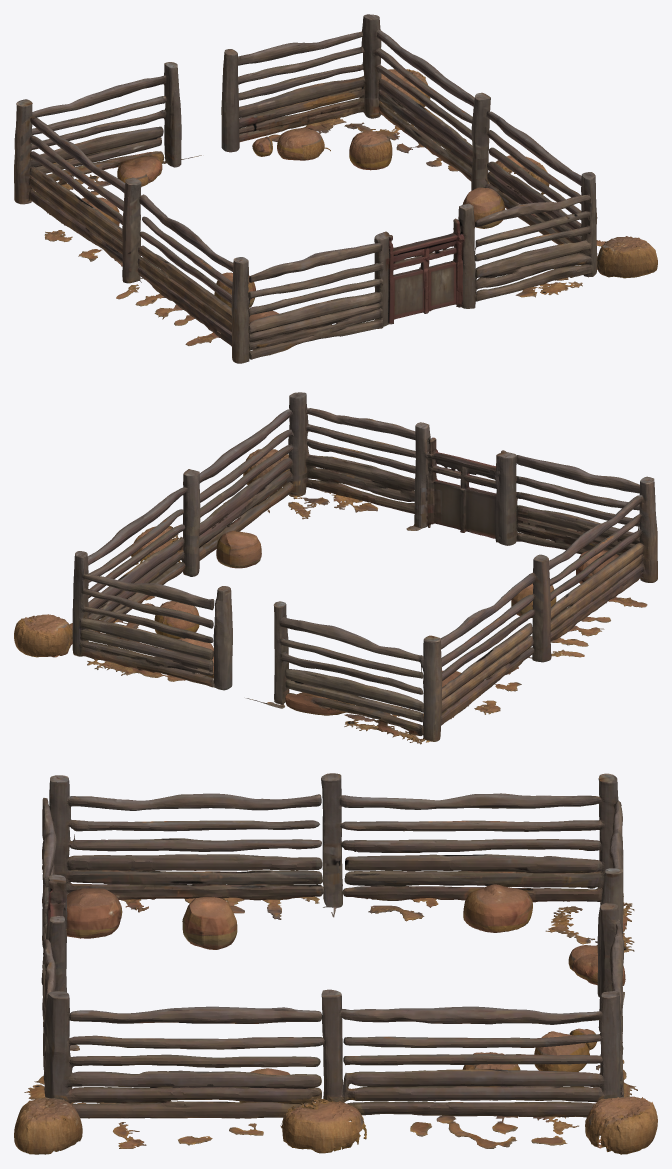
Rendered from Corral_de_vacas_antig_0404130520_texture.fbx.
3 renders of one model, top to bottom at view 1: azimuth 30°, elevation 25°; view 2: azimuth 150°, elevation 25°; view 3: azimuth 270°, elevation 25°, orthographic. The views are drawn at different scales.
Visible parts, largest first — view 1: temp; view 2: temp; view 3: temp.
Boxes of the visible parts, x1,y1,x2,y2 form: temp: (14,14,657,363); temp: (14,392,657,744); temp: (14,773,657,1154).
Size of the model in its own units: 189 by 42.72 by 190.
Materials: 1 (1 with a texture image).
